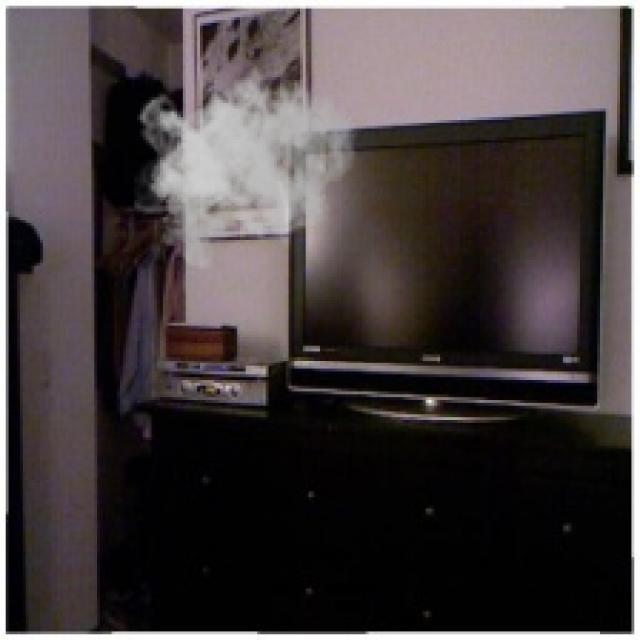smoke: (134, 57, 357, 269)
